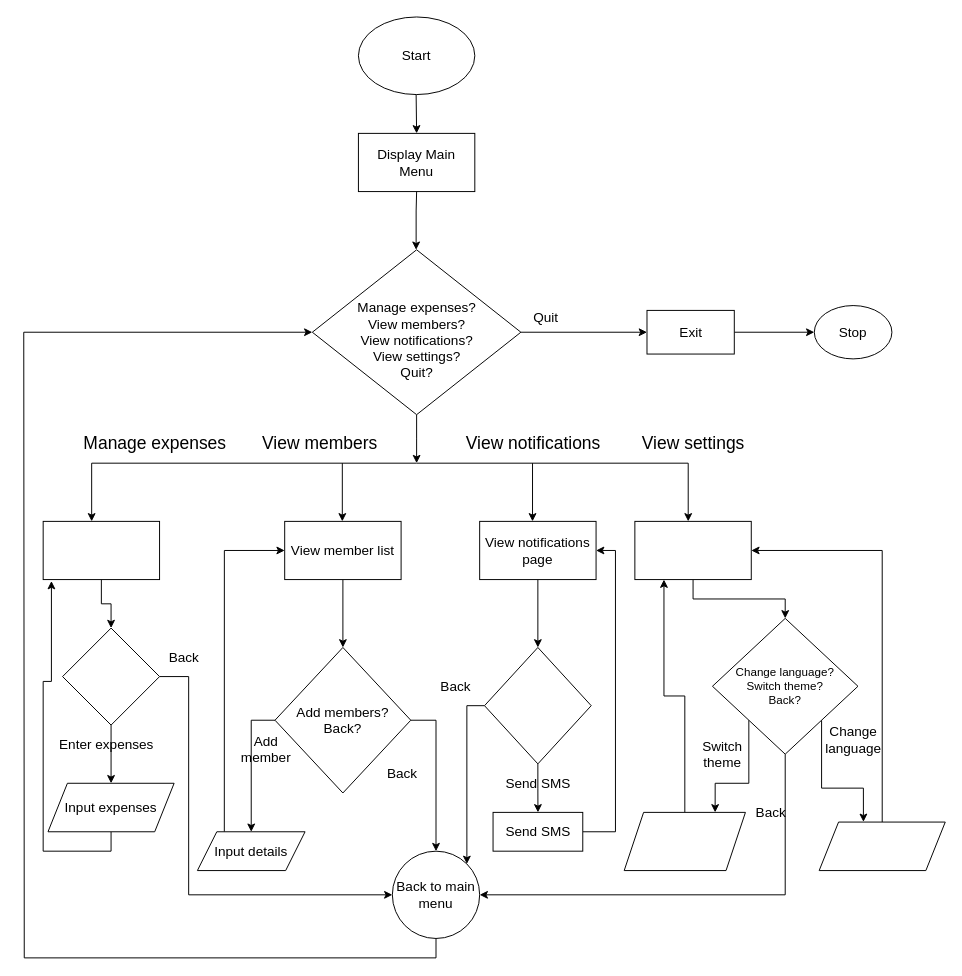
Some shapes in this 962 by 976 pixel diagram are drawn without their labels. Each missing label, with the box of its shape:
Enter expenses? Back?: (62, 627, 160, 725)
Select language: (818, 821, 945, 871)
Send SMS?Back?: (484, 647, 591, 764)
Switch dark/light theme: (623, 811, 745, 871)
View expenses page: (42, 520, 160, 580)
View settings page: (634, 520, 751, 580)
